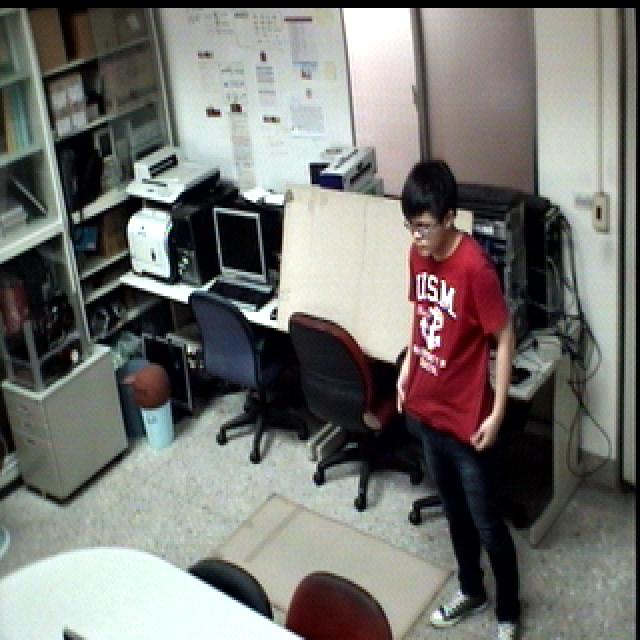stand: (389, 141, 525, 640)
